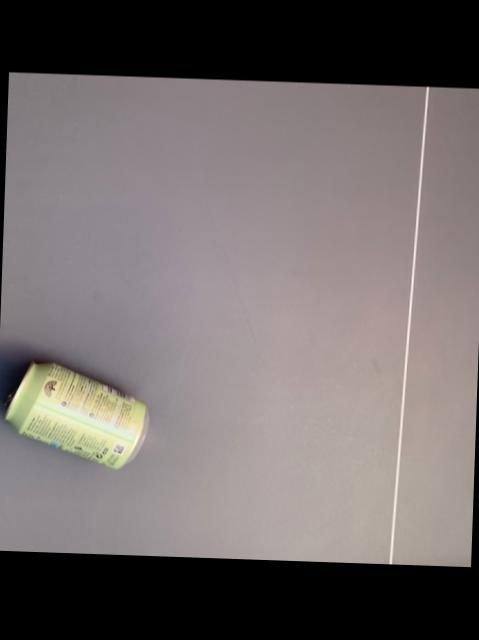metal: (5, 362, 148, 468)
